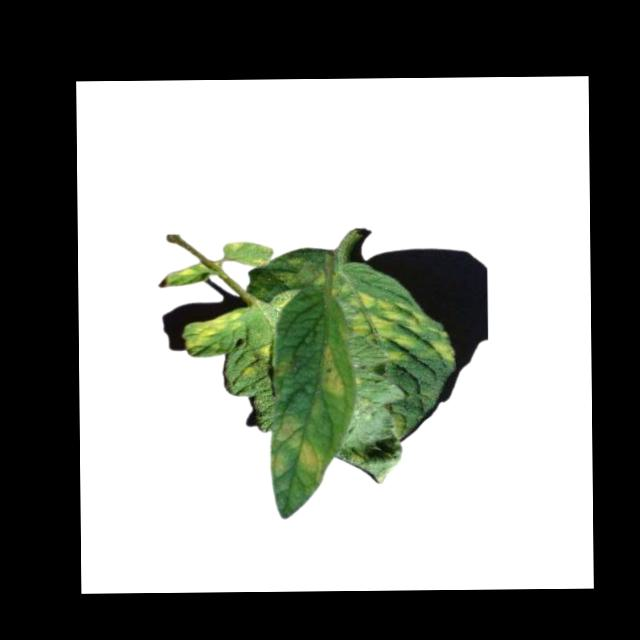Leaf_Mold: (333, 274, 458, 367), (184, 311, 242, 356), (244, 342, 273, 380), (299, 435, 324, 477), (322, 350, 343, 399), (278, 417, 300, 440)
